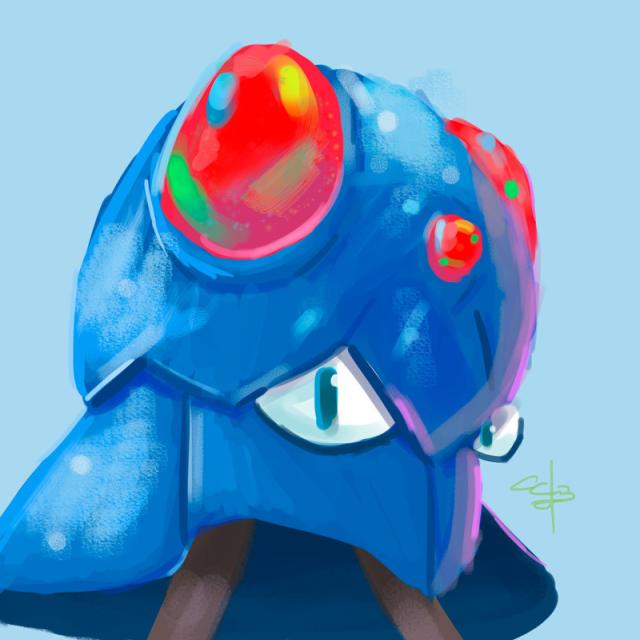Tentacool: (72, 42, 549, 640)
